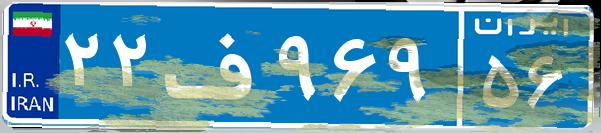2: (57, 26, 110, 107), (110, 28, 158, 105)
5: (475, 38, 525, 113)
6: (330, 28, 385, 110), (525, 38, 570, 115)
9: (385, 28, 445, 110), (273, 28, 330, 110)
ف: (158, 15, 273, 115)
